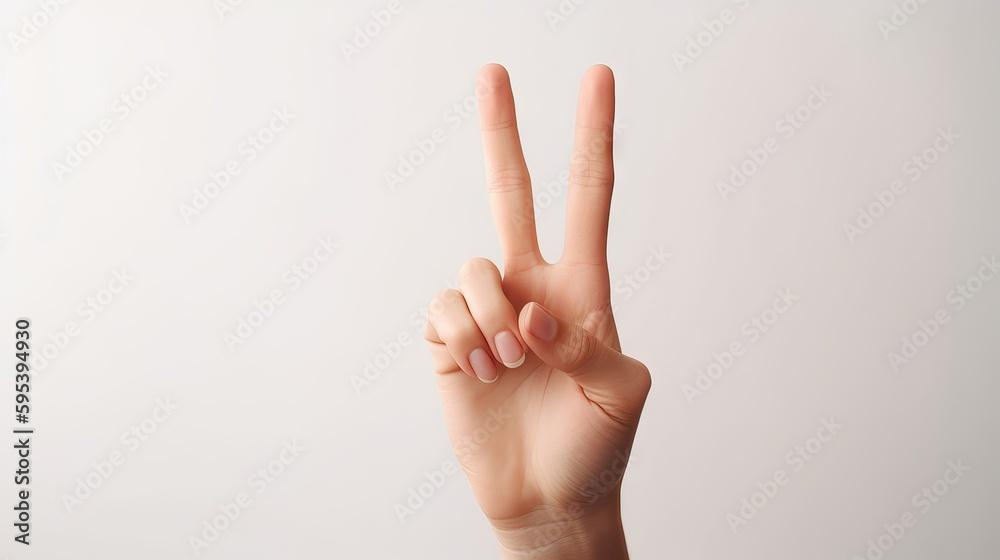peace_sign: (409, 54, 696, 560)
